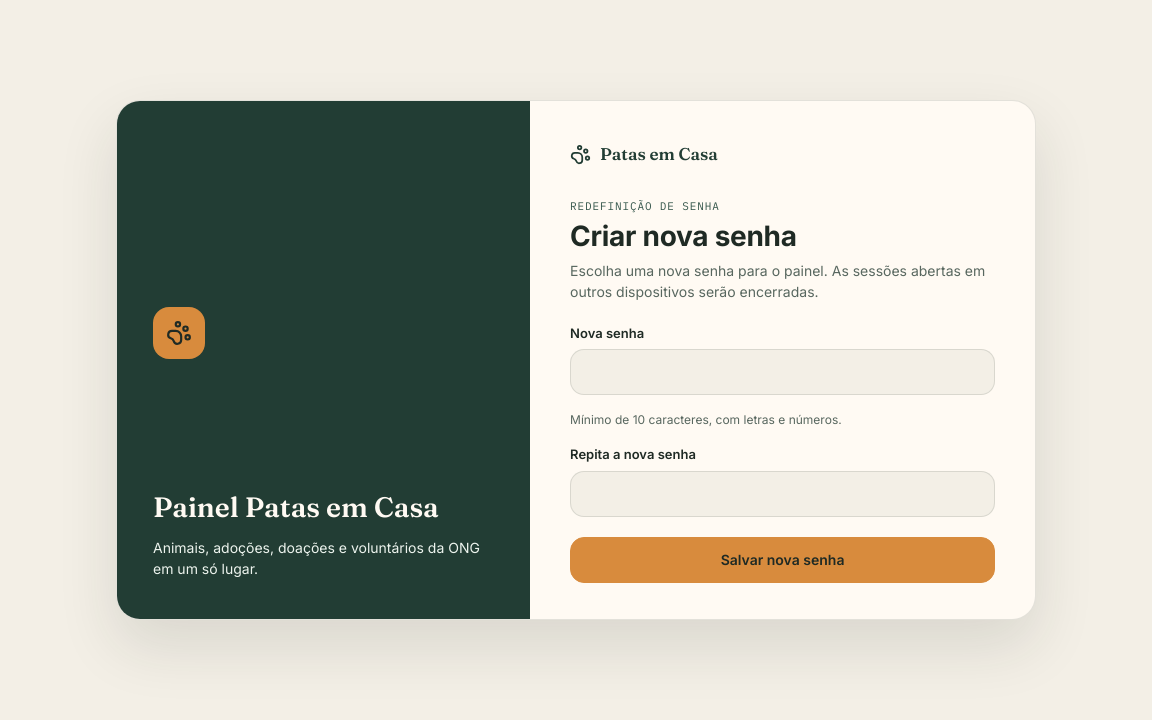
an expired link offers a new one
Step 1. Type "SenhaNova2026" into the password field labelled "Nova senha" → (783, 372), box [570, 349, 995, 395]
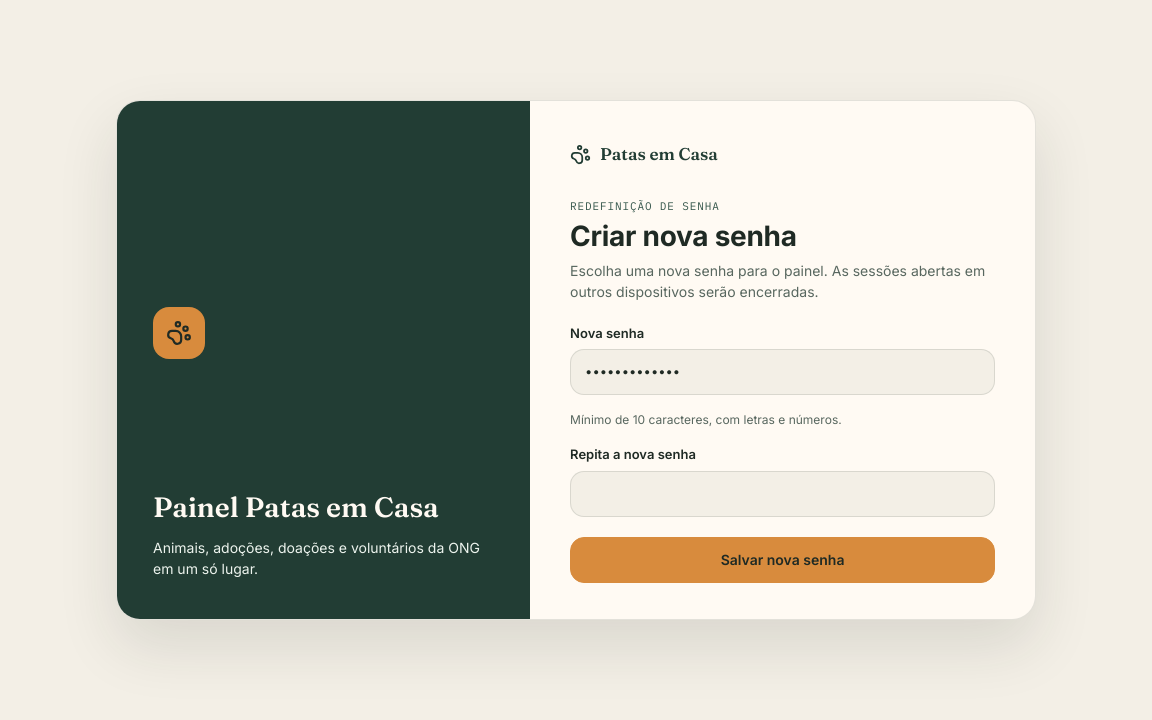
Step 2. Type "SenhaNova2026" into the password field labelled "Repita a nova senha" → (783, 494), box [570, 471, 995, 517]
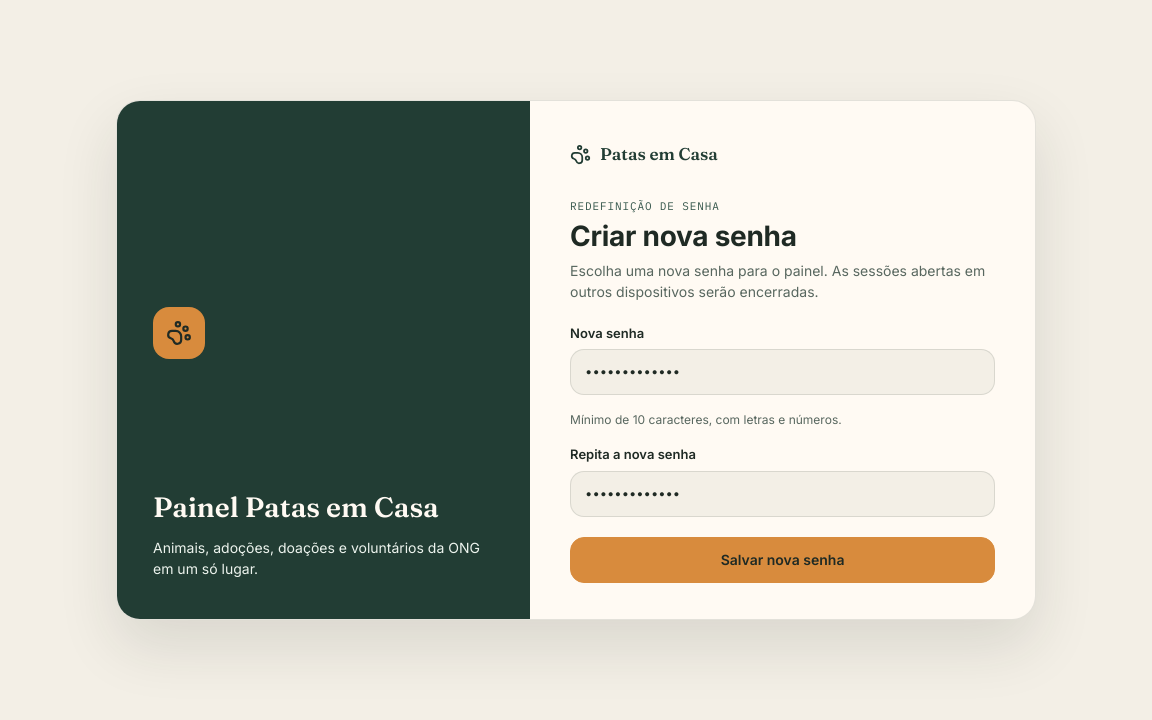
Step 3. Click the button "Salvar nova senha" → (783, 560), box [570, 537, 995, 583]
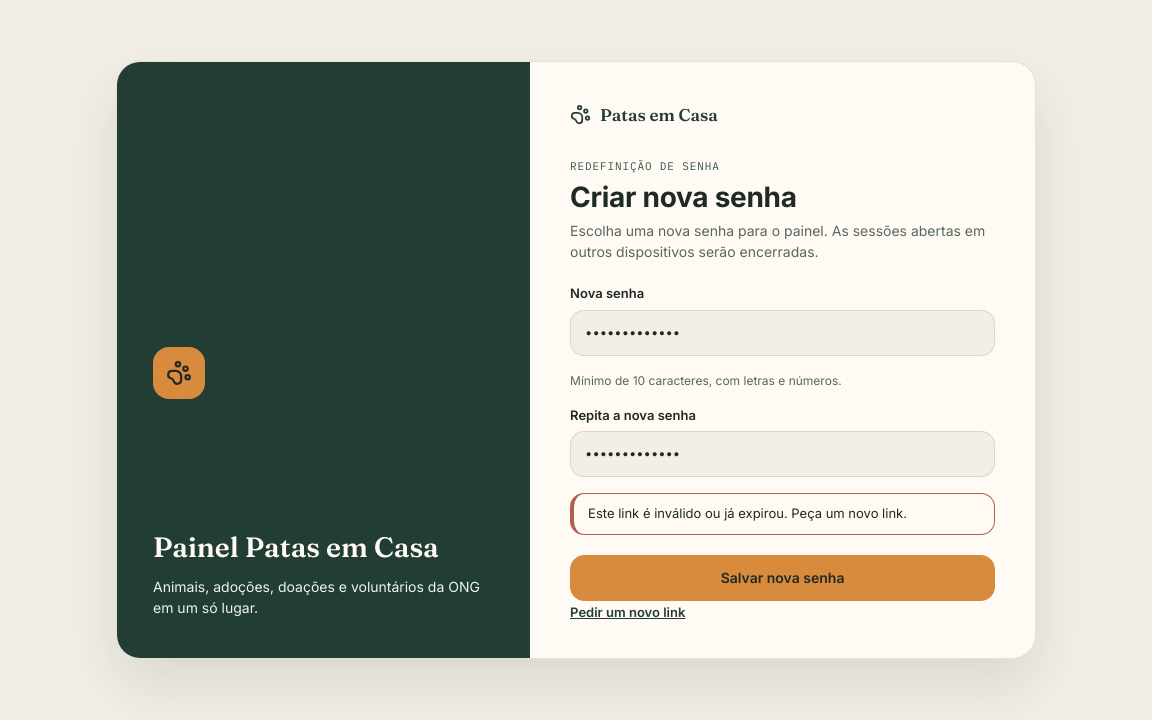
Now the text "Este link é inválido ou já expirou. Peça um novo link." is shown, box [588, 505, 907, 521]
